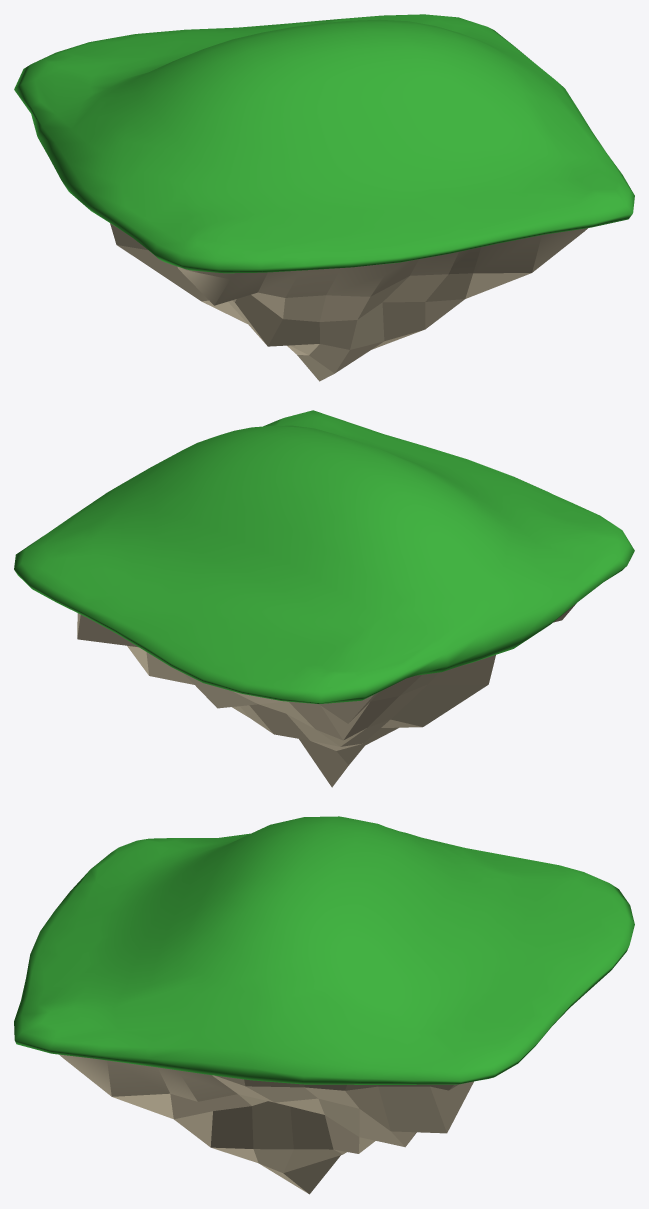
File: SM_Island3.fbx
The picture shows the model from 3 angles, top to bottom: view 1: azimuth 30°, elevation 25°; view 2: azimuth 150°, elevation 25°; view 3: azimuth 270°, elevation 25°; orthographic projection. The views are drawn at different scales.
Visible parts, largest first — view 1: SM_Island8; view 2: SM_Island8; view 3: SM_Island8.
Part boxes in pixels (bbox=[...]): SM_Island8: bbox=[14, 14, 634, 381]; SM_Island8: bbox=[14, 410, 634, 787]; SM_Island8: bbox=[14, 816, 634, 1194].
Size of the model in its own units: 39.94 by 27.04 by 44.01.
